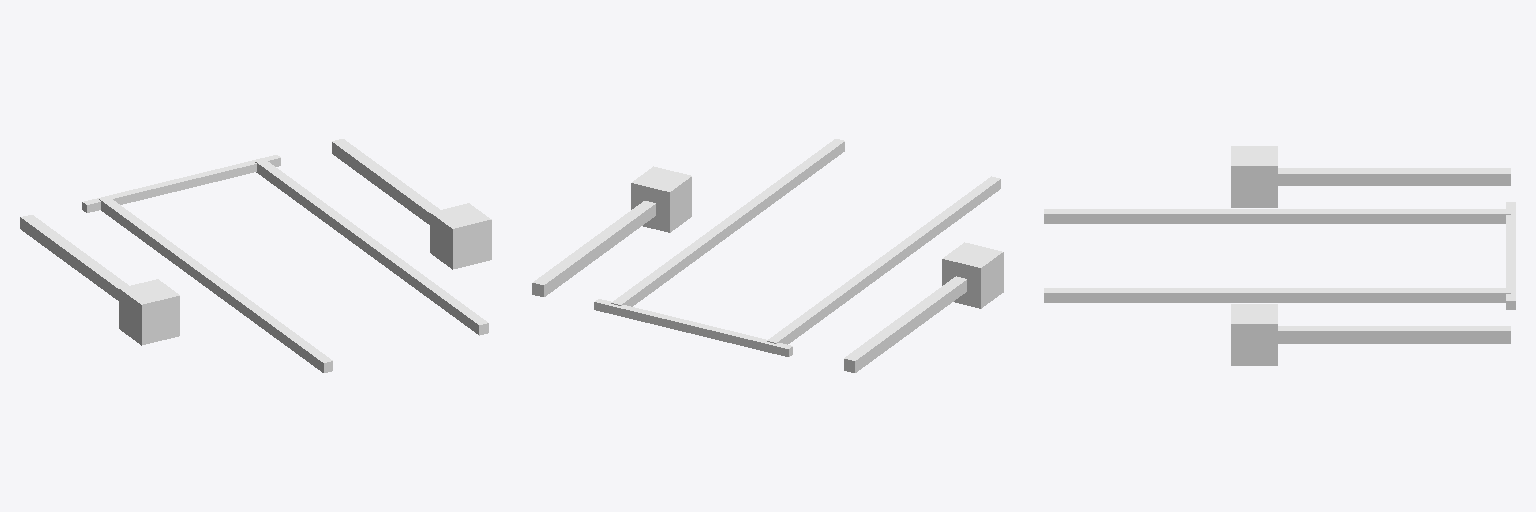
robot.urdf — walker:
<robot name="walker">

  <link name="base_link">
    <inertial>
      <origin rpy="0 0 0" xyz="0 0 0" />
      <mass value="0.01" />
      <inertia ixx="2e-6" ixy="0" ixz="0" iyy="1.85333E-6" iyz="0" izz="1.85333E-6" />
    </inertial>
    <visual>
      <origin rpy="0 0 0" xyz="0 0 0" />
      <geometry>
        <box size="0.5 0.02 0.02" />
      </geometry>
      <material name="">
        <color rgba="1 1 1 1" />
      </material>
    </visual>
  </link>

  <link name="left_leg">
    <inertial>
      <origin xyz="0 -0.5 0.1" rpy="0 0 0" />
      <mass value="5" />
      <inertia ixx="4.169270833e-01" ixy="0" ixz="0" iyy="5.208333333e-04" iyz="0"
        izz="4.169270833e-01" />
    </inertial>
    <visual>
      <origin xyz="0 -0.5 0" rpy="0 0 0" />
      <geometry>
        <box size="0.025 1 0.025" />
      </geometry>
      <material name="">
        <color rgba="1 1 1 1" />
      </material>
    </visual>
  </link>

  <link name="left_foot">
    <inertial>
      <origin xyz="-0.0456029481737161 -0.137654254578205 -0.0142090017915342" rpy="0 0 0" />
      <mass value="0.5" />
      <inertia ixx="8.89125624153188E-05" ixy="2.65831102839148E-06" ixz="-1.81293250972766E-11"
        iyy="0.000110026906143505" iyz="4.68543934728002E-12" izz="2.96276011964012E-05" />
    </inertial>
    <visual>
      <origin xyz="0.15 0.1 0.333" rpy="0 3.14 3.14" />
      <geometry>
        <mesh filename="package:///left_foot_scaled.obj" />
      </geometry>
      <material name="">
        <color rgba="0.792156862745098 0.819607843137255 0.933333333333333 1" />
      </material>
    </visual>
    <collision>
      <origin xyz="0.15 0.1 0.333" rpy="0 3.14 3.14" />
      <geometry>
        <mesh filename="package:///left_foot_scaled.obj" />
      </geometry>
    </collision>
  </link>


  <link name="left_arm">
    <inertial>
      <origin xyz="0 -0.25 0" rpy="0 0 0" />
      <mass value="2.5" />
      <inertia ixx="5.227083333e-02" ixy="0" ixz="0" iyy="3.75e-4" iyz="0" izz="5.227083333e-02" />
    </inertial>
    <visual>
      <origin xyz="0 -0.25 0" rpy="0 0 0" />
      <geometry>
        <box size="0.03 0.5 0.03" />
      </geometry>
      <material name="">
        <color rgba="1 1 1 1" />
      </material>
    </visual>
  </link>

  <link name="left_batt">
    <inertial>
      <origin xyz="0 -0.05 0" rpy="0 0 0" />
      <mass value="5" />
      <inertia ixx="0.0003333" ixy="0" ixz="0" iyy="0.0003333" iyz="0" izz="0.0003333" />
    </inertial>
    <visual>
      <origin xyz="0 -0.05 0" rpy="0 0 0" />
      <geometry>
        <box size="0.1 0.1 0.1" />
      </geometry>
      <material name="">
        <color rgba="1 1 1 1" />
      </material>
    </visual>
  </link>

  <link name="right_leg">
    <inertial>
      <origin xyz="0 -0.5 0.1" rpy="0 0 0" />
      <mass value="5" />
      <inertia ixx="4.169270833e-01" ixy="0" ixz="0" iyy="5.208333333e-04" iyz="0"
        izz="4.169270833e-01" />
    </inertial>
    <visual>
      <origin xyz="0 -0.5 0" rpy="0 0 0" />
      <geometry>
        <box size="0.025 1 0.025" />
      </geometry>
      <material name="">
        <color rgba="1 1 1 1" />
      </material>
    </visual>
  </link>

  <link name="right_foot">
    <inertial>
      <origin xyz="-0.0456029481737161 -0.137654254578205 -0.0142090017915342" rpy="0 0 0" />
      <mass value="0.5" />
      <inertia ixx="8.89125624153188E-05" ixy="2.65831102839148E-06" ixz="-1.81293250972766E-11"
        iyy="0.000110026906143505" iyz="4.68543934728002E-12" izz="2.96276011964012E-05" />
    </inertial>
    <visual>
      <origin xyz="-0.15 0.1 -0.333" rpy="0 0 3.14" />
      <geometry>
        <mesh filename="package:///right_foot_scaled-2.obj" />
      </geometry>
      <material name="">
        <color rgba="0.792156862745098 0.819607843137255 0.933333333333333 1" />
      </material>
    </visual>
    <collision>
      <origin xyz="-0.15 0.1 -0.333" rpy="0 0 3.14" />
      <geometry>
        <mesh filename="package:///right_foot_scaled-2.obj" />
      </geometry>
    </collision>
  </link>

  <link name="right_arm">
    <inertial>
      <origin xyz="0 -0.25 0" rpy="0 0 0" />
      <mass value="2.5" />
      <inertia ixx="5.227083333e-02" ixy="0" ixz="0" iyy="3.75e-4" iyz="0" izz="5.227083333e-02" />
    </inertial>
    <visual>
      <origin xyz="0 -0.25 0" rpy="0 0 0" />
      <geometry>
        <box size="0.03 0.5 0.03" />
      </geometry>
      <material name="">
        <color rgba="1 1 1 1" />
      </material>
    </visual>
  </link>

  <link name="right_batt">
    <inertial>
      <origin xyz="0 -0.05 0" rpy="0 0 0" />
      <mass value="5" />
      <inertia ixx="0.0003333" ixy="0" ixz="0" iyy="0.0003333" iyz="0" izz="0.0003333" />
    </inertial>
    <visual>
      <origin xyz="0 -0.05 0" rpy="0 0 0" />
      <geometry>
        <box size="0.1 0.1 0.1" />
      </geometry>
      <material name="">
        <color rgba="1 1 1 1" />
      </material>
    </visual>
  </link>

  <joint name="base_joint" type="fixed">
    <origin xyz="0.2 0 0" rpy="0 0 0" />
    <parent link="base_link" />
    <child link="left_leg" />
  </joint>

  <joint name="hip" type="revolute">
    <origin xyz="-0.4 0 0" rpy="0 0 0" />
    <parent link="left_leg" />
    <child link="right_leg" />
    <axis xyz="-1 0 0" />
    <limit lower="-1.570796326794896558" upper="1.570796326794896558" />
  </joint>

  <joint name="left_foot_joint" type="fixed">
    <origin xyz="-0.2 -1 0" rpy="0 0 0" />
    <parent link="left_leg" />
    <child link="left_foot" />
    <axis xyz="0 0 0" />
  </joint>

  <joint name="left_arm_joint" type="fixed">
    <origin xyz="0.6 0 0" rpy="0 0 0" />
    <parent link="right_leg" />
    <child link="left_arm" />
    <axis xyz="0 0 0" />
  </joint>

  <joint name="left_batt_joint" type="fixed">
    <origin xyz="0 -0.5 0" rpy="0 0 0" />
    <parent link="left_arm" />
    <child link="left_batt" />
    <axis xyz="0 0 0" />
  </joint>

  <joint name="right_foot_joint" type="fixed">
    <origin xyz="0.2 -1 0" rpy="0 0 0" />
    <parent link="right_leg" />
    <child link="right_foot" />
    <axis xyz="0 0 0" />
  </joint>

  <joint name="right_arm_joint" type="fixed">
    <origin xyz="-0.6 0 0" rpy="0 0 0" />
    <parent link="left_leg" />
    <child link="right_arm" />
    <axis xyz="0 0 0" />
  </joint>

  <joint name="right_batt_joint" type="fixed">
    <origin xyz="0 -0.5 0" rpy="0 0 0" />
    <parent link="right_arm" />
    <child link="right_batt" />
    <axis xyz="0 0 0" />
  </joint>

</robot>

--- Facts derived from the render (not from the file) ---
3 views of the same robot in one strip: view 1: azimuth 30°, elevation 25°; view 2: azimuth 150°, elevation 25°; view 3: azimuth 270°, elevation 25° (orthographic).
Model walker with 9 links and 8 joints (1 revolute, 7 fixed), rooted at base_link, posed every joint at zero.
Visible links, largest first — view 1: left_leg, right_leg, left_batt, right_batt, right_arm, left_arm, base_link; view 2: right_leg, left_leg, right_batt, left_batt, left_arm, right_arm, base_link; view 3: left_leg, right_leg, left_arm, right_arm, left_batt, right_batt, base_link.
Boxes of the visible links, x1,y1,x2,y2 form: left_leg: (255,159,488,335); right_leg: (99,197,332,372); left_batt: (430,203,491,269); right_batt: (119,279,179,345); right_arm: (20,215,128,300); left_arm: (332,139,439,224); base_link: (82,155,280,212); right_leg: (767,176,1000,344); left_leg: (611,139,844,306); right_batt: (942,242,1003,308); left_batt: (631,166,691,232); left_arm: (532,201,655,296); right_arm: (844,276,966,372); base_link: (594,299,792,356); left_leg: (1044,288,1510,302); right_leg: (1044,209,1510,223); left_arm: (1278,326,1510,343); right_arm: (1278,168,1510,185); left_batt: (1231,304,1277,365); right_batt: (1231,146,1277,207); base_link: (1506,202,1515,309).
Size in the robot's own frame: 0.9 by 1.01 by 0.1 metres.
Geometry: only primitive shapes (box / cylinder / sphere) drawn; not drawn: 2 mesh visuals (reference in a form the renderer does not follow).